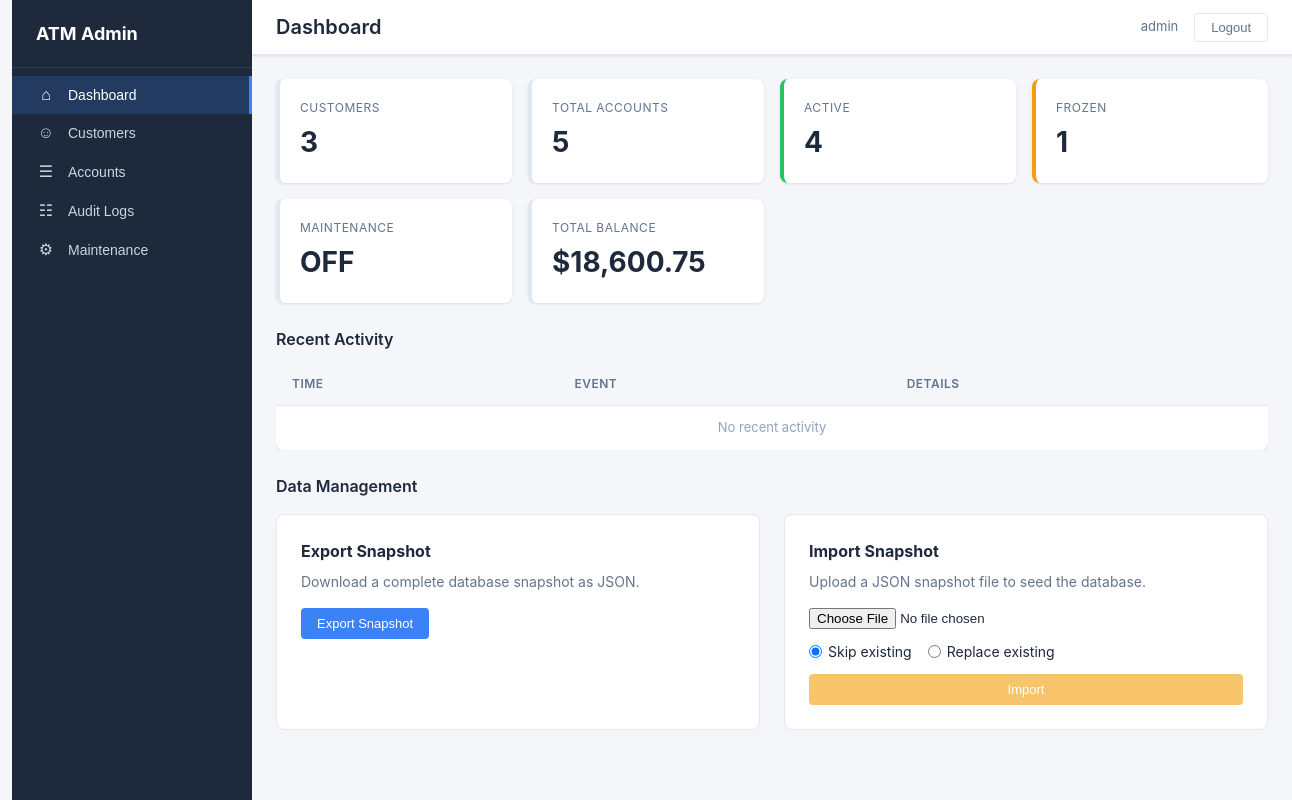
it: App › navigates between pages
This screenshot has width=1292, height=800.
Expected: the text "Total Accounts" is shown, [552,100,668,115]
// Navigate to Accounts page
Click the button "☰ Accounts" at (132, 172), box [12,152,252,191]
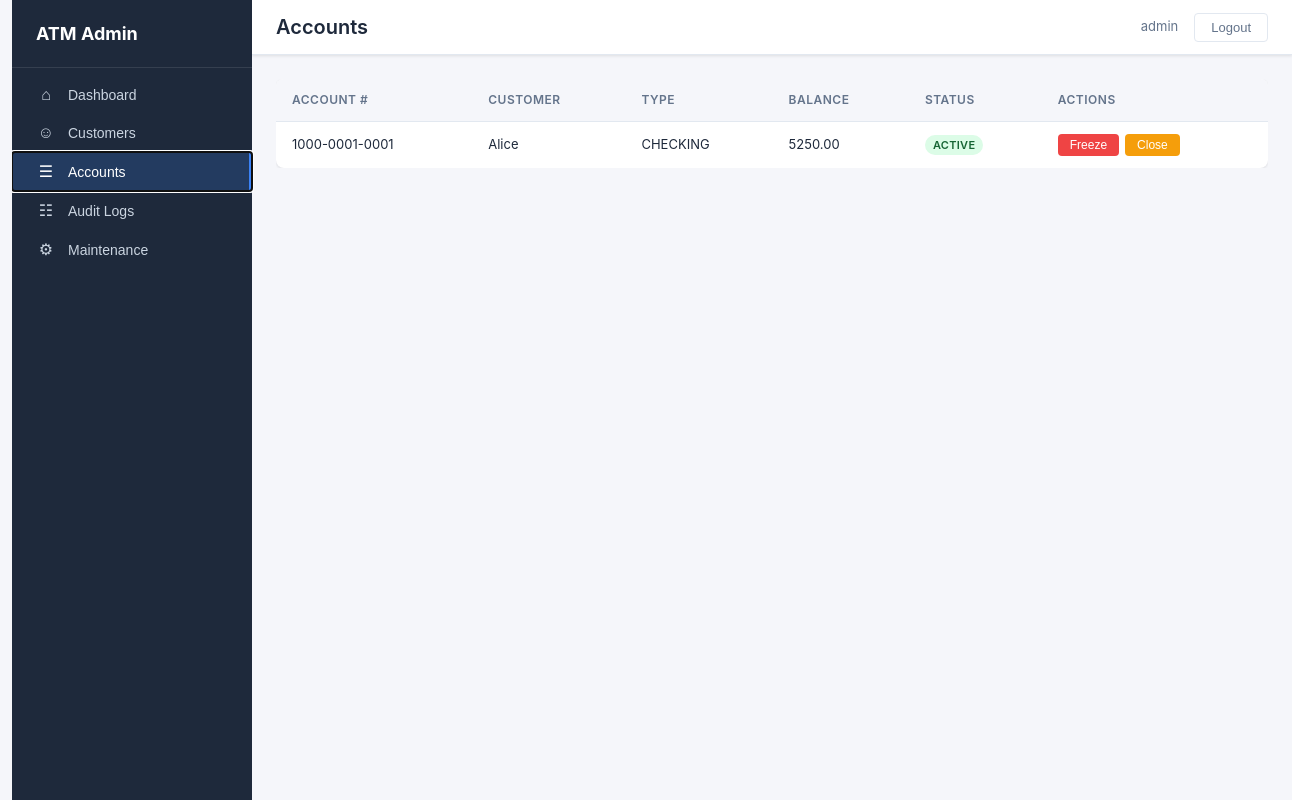
Result: the text "Alice" is shown at [472,122,625,168]
